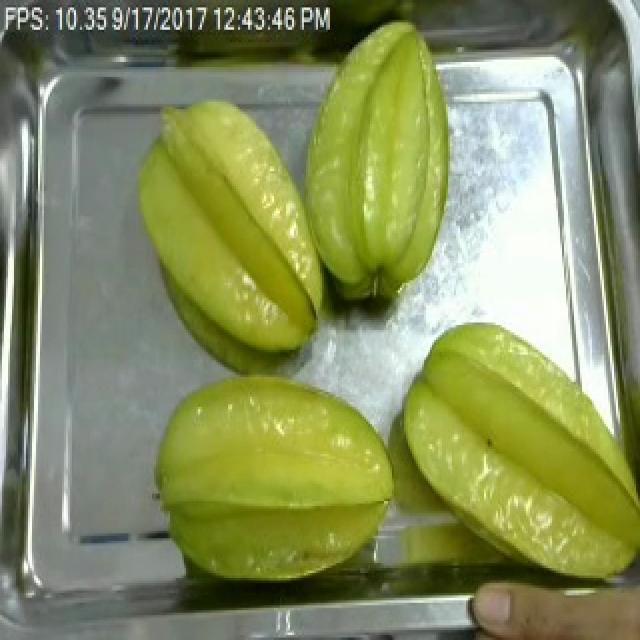fruit: (384, 300, 640, 596), (136, 358, 412, 600), (126, 92, 338, 370), (284, 8, 470, 305)
